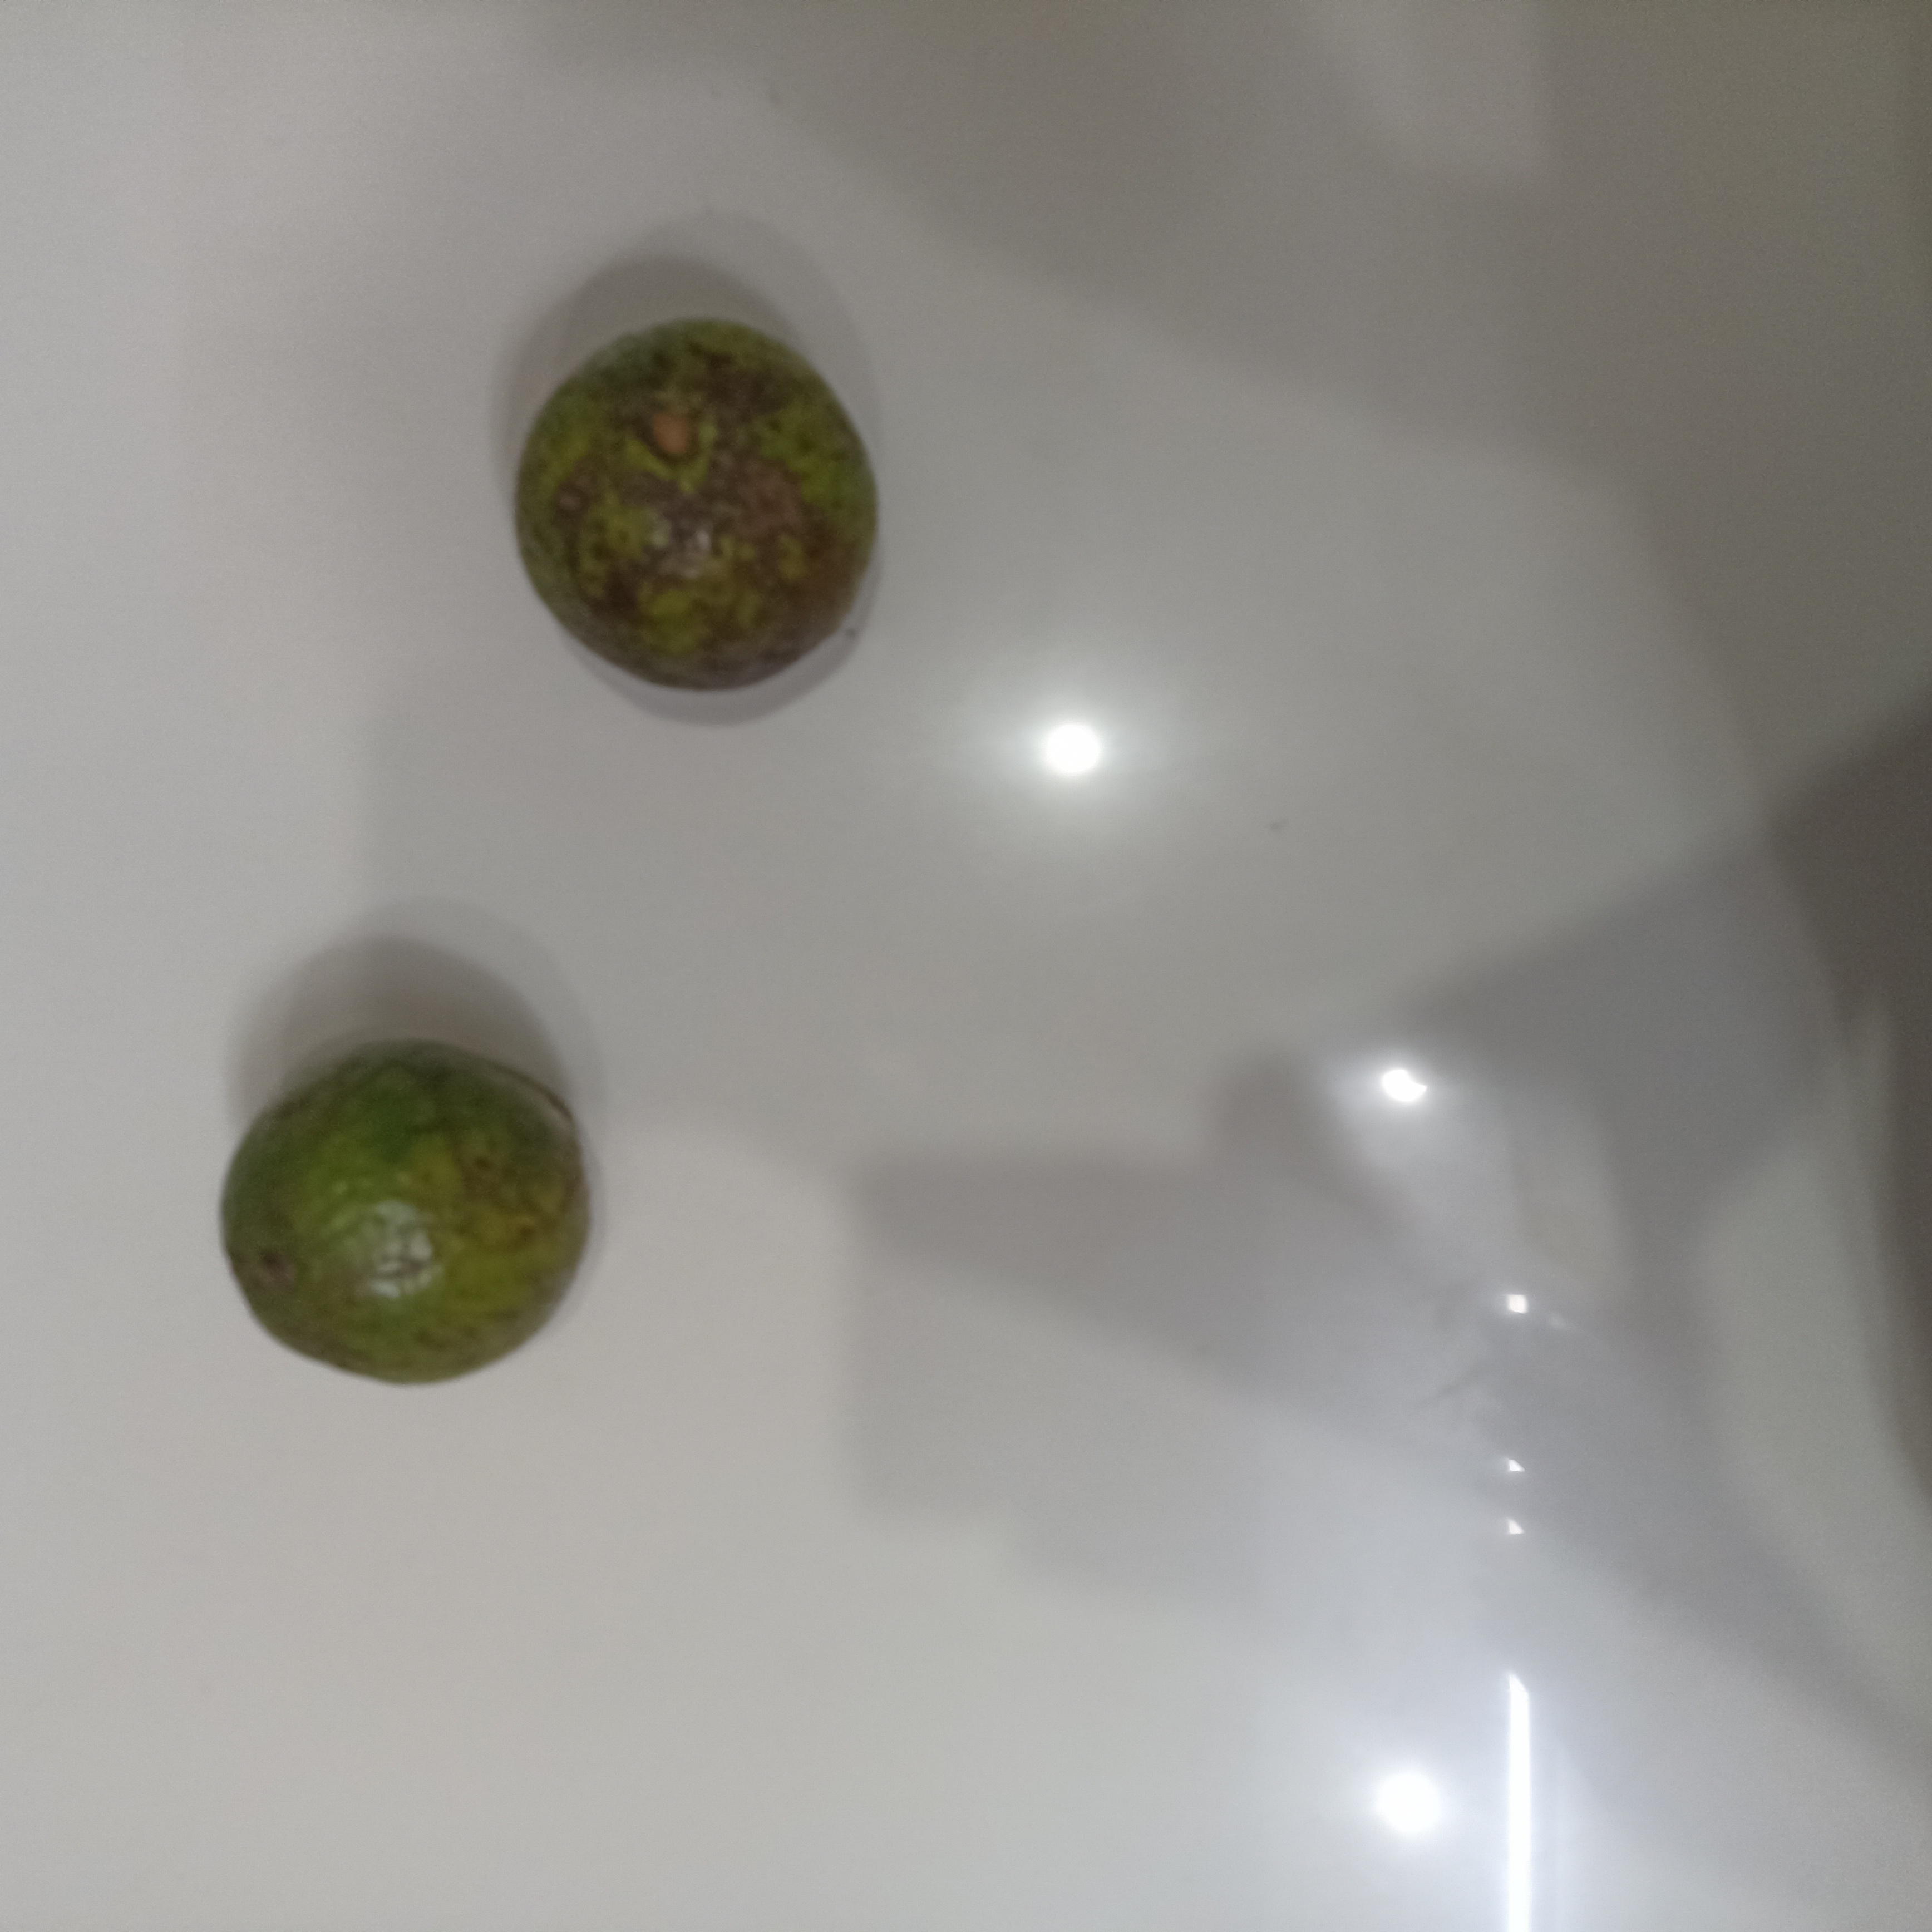Bo: (513, 315, 879, 692), (216, 1046, 593, 1387)
